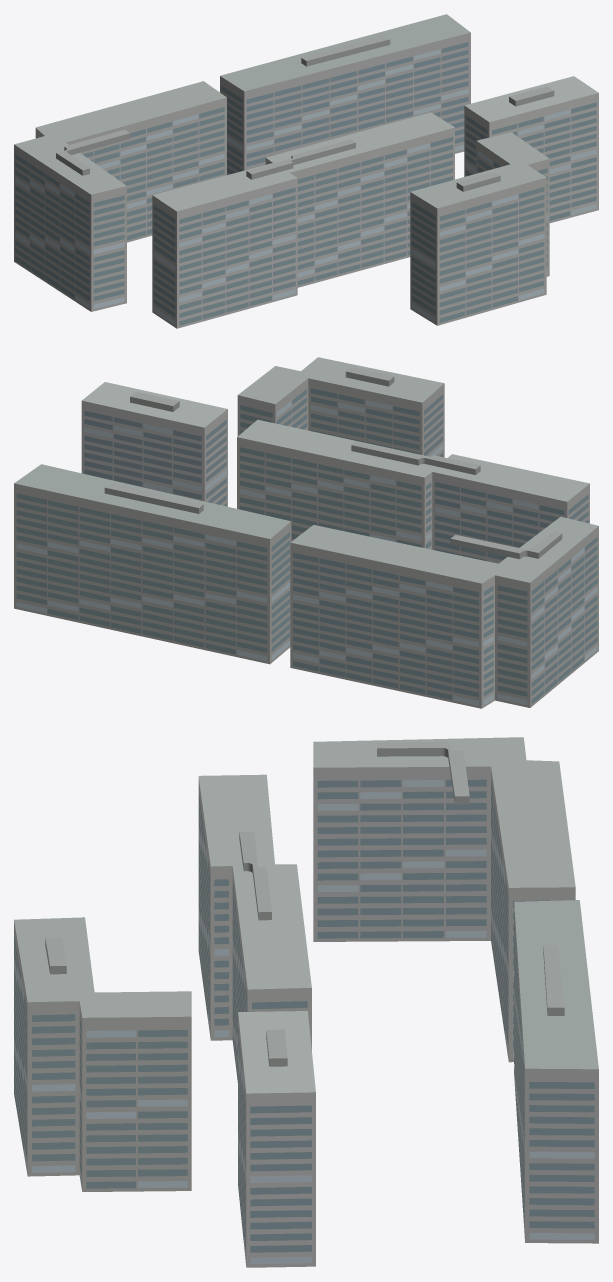
Rendered from apt-a13282510.glb.
The picture shows the model from 3 angles, top to bottom: view 1: azimuth 30°, elevation 25°; view 2: azimuth 150°, elevation 25°; view 3: azimuth 270°, elevation 25°; orthographic projection. The views are drawn at different scales.
Visible parts, largest first — view 1: apt-a13282510; view 2: apt-a13282510; view 3: apt-a13282510.
Boxes of the visible parts, left/top/right/bottom form: apt-a13282510: left=14, top=14, right=598, bottom=328; apt-a13282510: left=14, top=357, right=598, bottom=708; apt-a13282510: left=14, top=737, right=598, bottom=1267.
Size of the model in its own units: 168 by 40 by 116.
